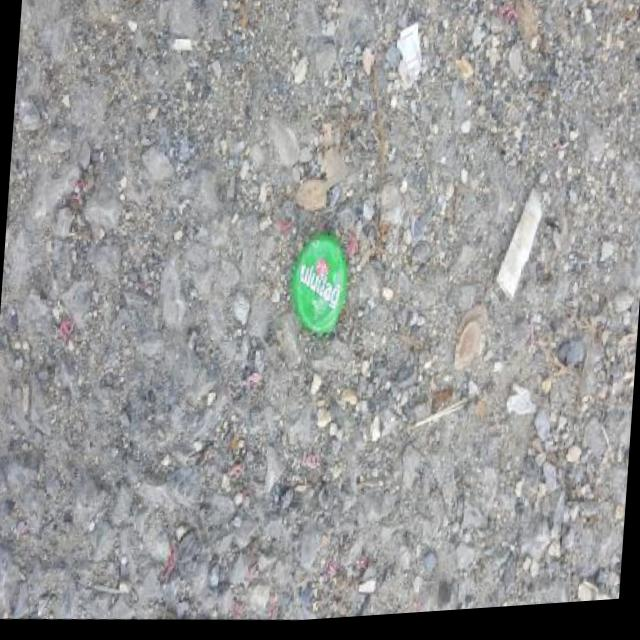metal: (251, 265, 355, 337)
